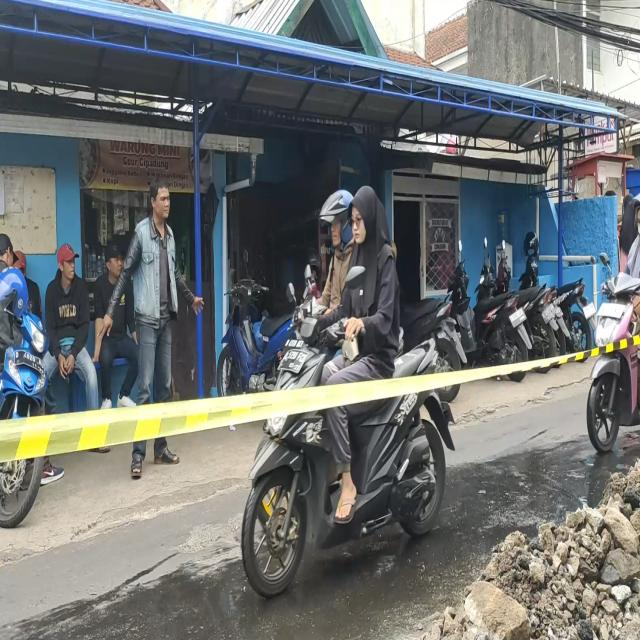helmet: (323, 189, 350, 244)
no-helmet: (353, 192, 384, 242)
